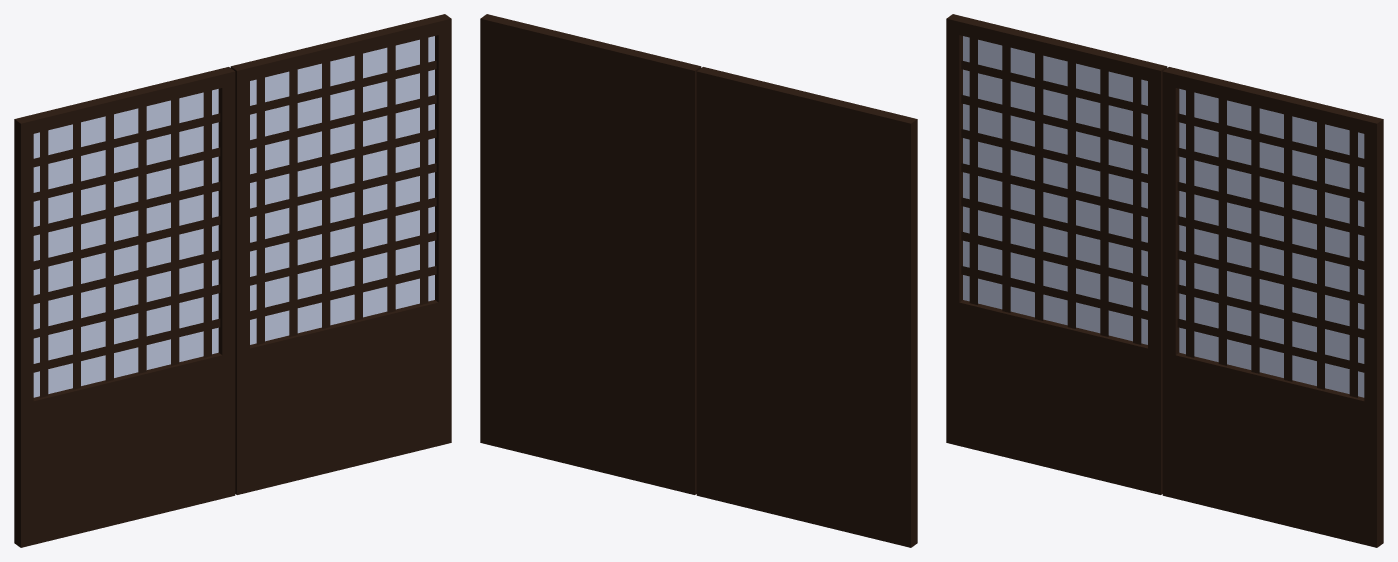
The model's file is Asian Building Gate.fbx.
3 renders of one model, left to right at view 1: azimuth 30°, elevation 25°; view 2: azimuth 150°, elevation 25°; view 3: azimuth 330°, elevation 25°, orthographic.
Parts seen in each view (by area): view 1: Door 1.001; view 2: Door 1.001; view 3: Door 1.001.
Boxes of the visible parts, x1=… form: Door 1.001: x1=14, y1=14, x2=451, y2=547; Door 1.001: x1=480, y1=14, x2=917, y2=547; Door 1.001: x1=946, y1=14, x2=1383, y2=547.
Bounding box in the file's own units: 71.73 × 67.52 × 1.84.
